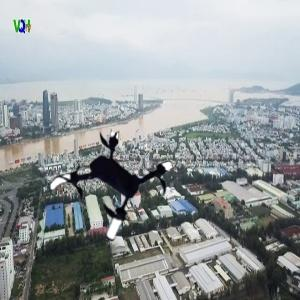drone: (48, 125, 176, 253)
